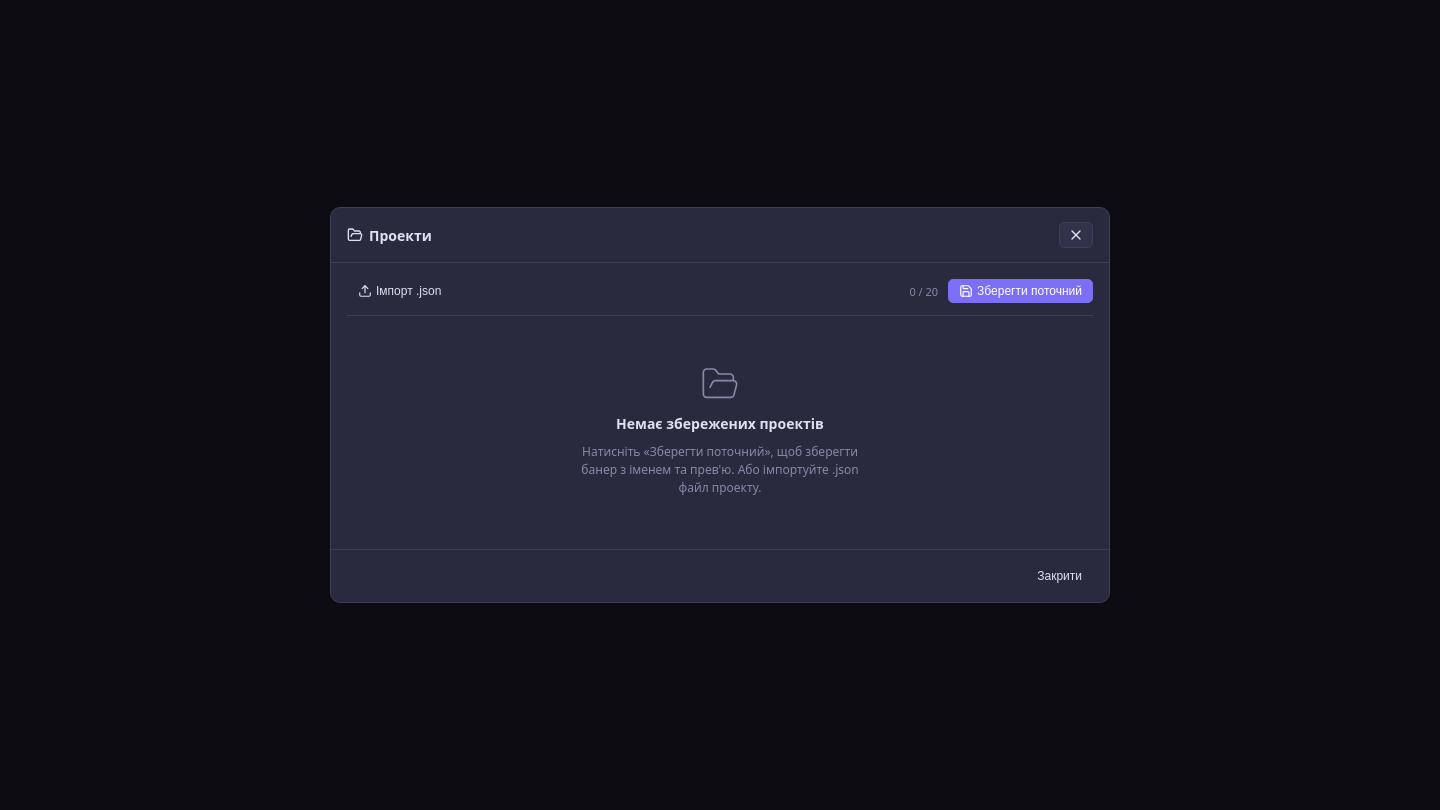
Test case: ProjectsModal — list view › clicking "Зберегти поточний" switches to save view
What coordinates should you click on to do the following:
click the button "Зберегти поточний"
I would click on:
 (1021, 291)
Its box is [948, 279, 1093, 303].
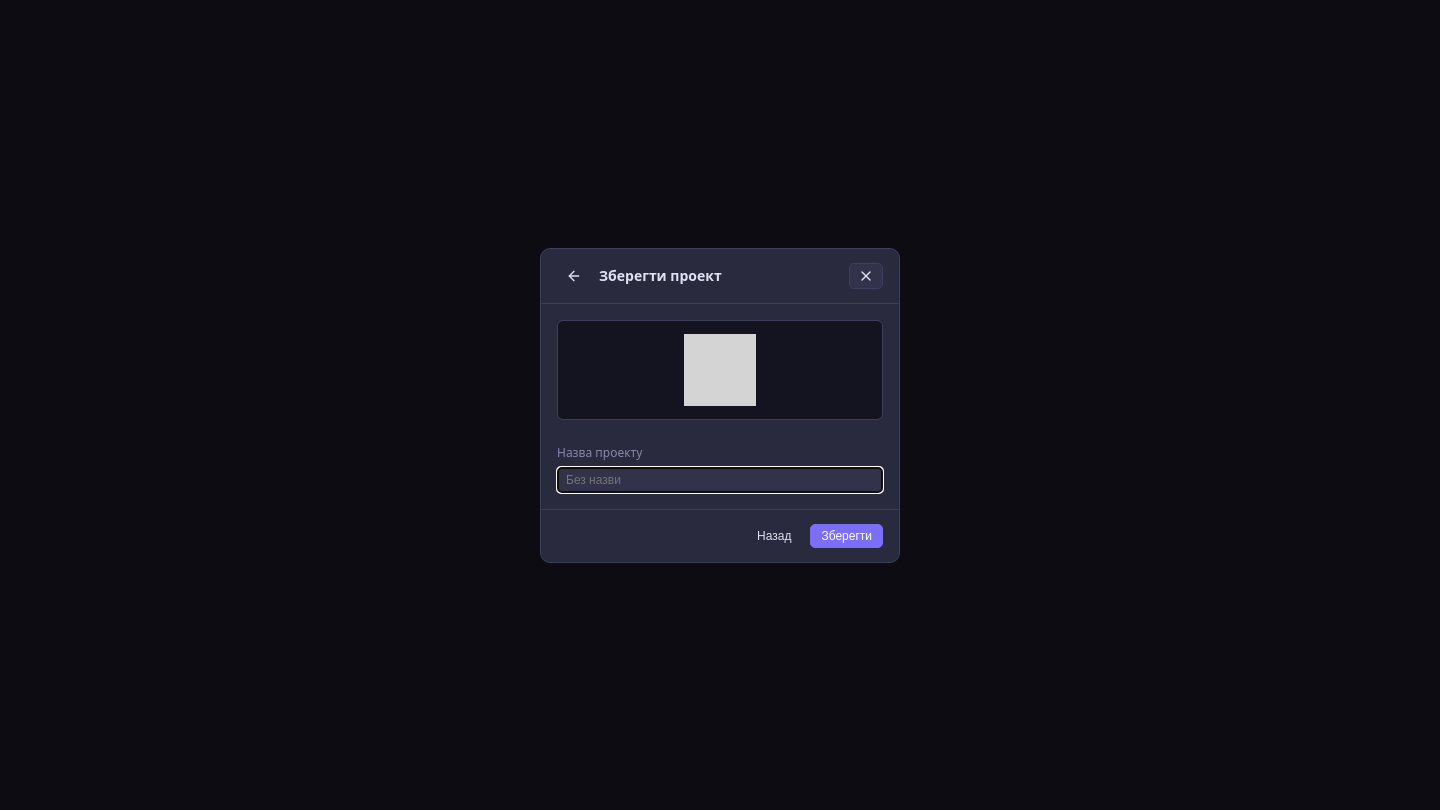
Expected: the text "Зберегти проект" is shown, [599, 266, 722, 285]
